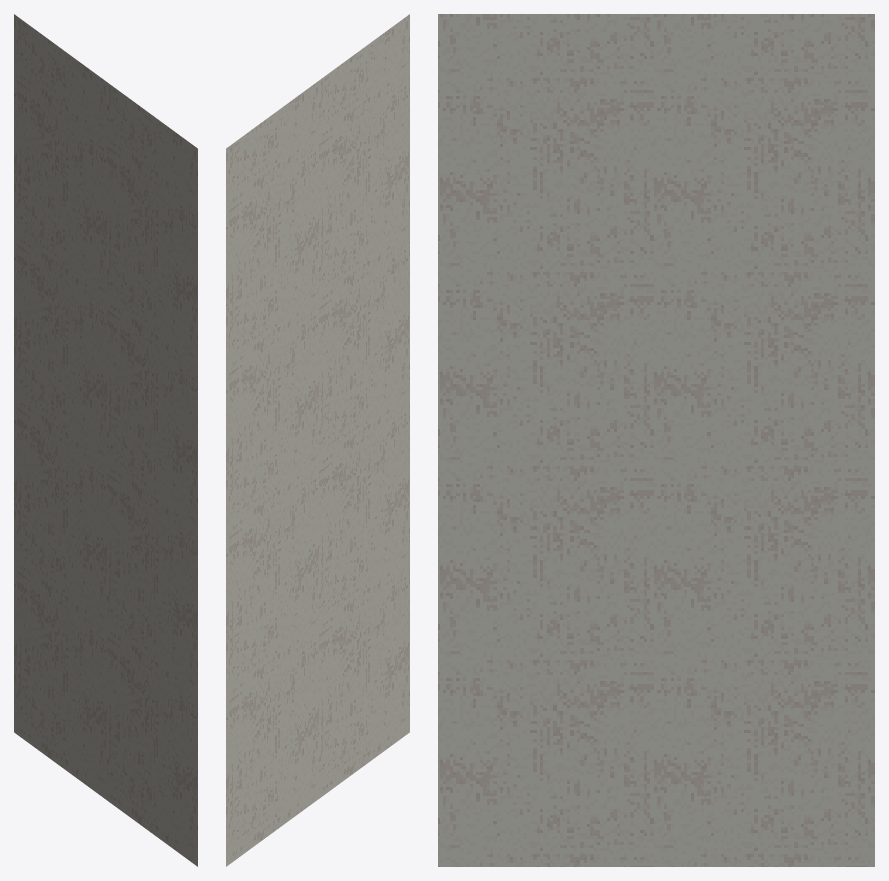
File: kd_stage_135b75_4_30_bounded_piece_10.glb
3 views of the same model, side by side, from view 1: azimuth 30°, elevation 25°; view 2: azimuth 150°, elevation 25°; view 3: azimuth 270°, elevation 25° (orthographic). The views are drawn at different scales.
Visible parts, largest first — view 1: kd_stage_135b75_4_30_bounded_piece_10; view 2: kd_stage_135b75_4_30_bounded_piece_10; view 3: kd_stage_135b75_4_30_bounded_piece_10.
Part boxes in pixels (<box>): kd_stage_135b75_4_30_bounded_piece_10: <box>14,14,197,866</box>; kd_stage_135b75_4_30_bounded_piece_10: <box>226,14,409,866</box>; kd_stage_135b75_4_30_bounded_piece_10: <box>438,14,874,866</box>.
Bounding box in the file's own units: 0 × 1.7 × 0.7905.
Materials: 1 (1 with a texture image).
